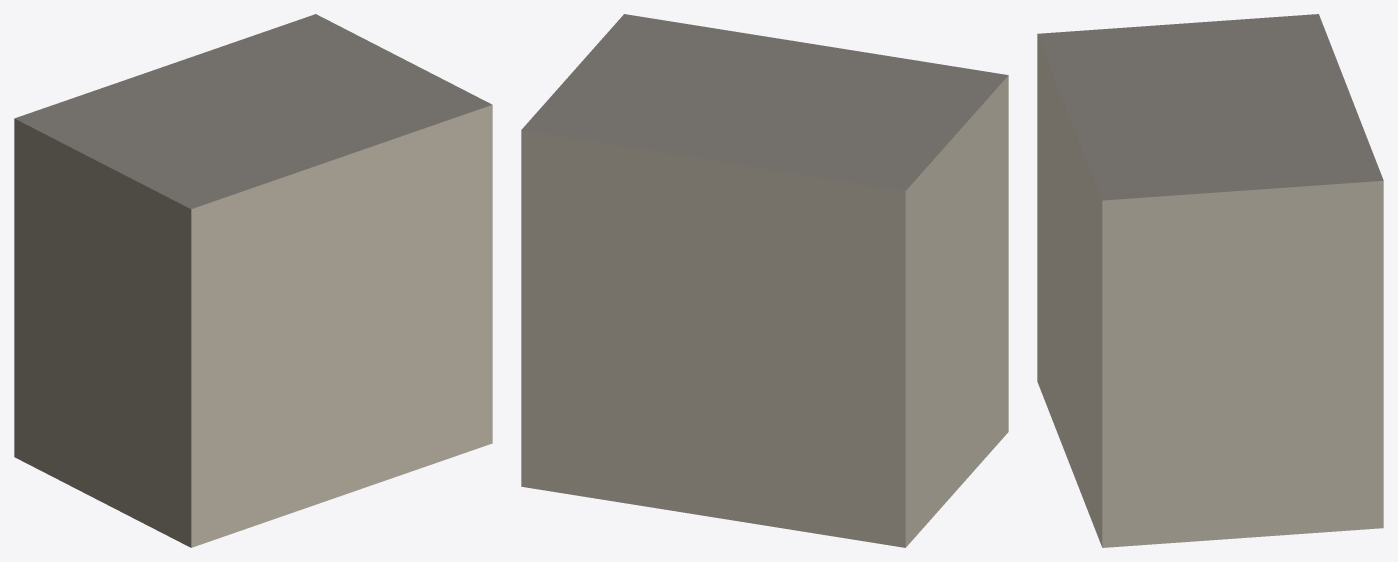
3 renders of one model, left to right at view 1: azimuth 30°, elevation 25°; view 2: azimuth 150°, elevation 25°; view 3: azimuth 270°, elevation 25°, orthographic. The views are drawn at different scales.
Visible parts, largest first — view 1: HP-w1424106477; view 2: HP-w1424106477; view 3: HP-w1424106477.
Part boxes in pixels (x1,y1,x2,y2): HP-w1424106477: (14,14,492,547); HP-w1424106477: (521,14,1008,547); HP-w1424106477: (1037,14,1383,547).
Size of the model in its own units: 20.73 by 18 by 16.28.
